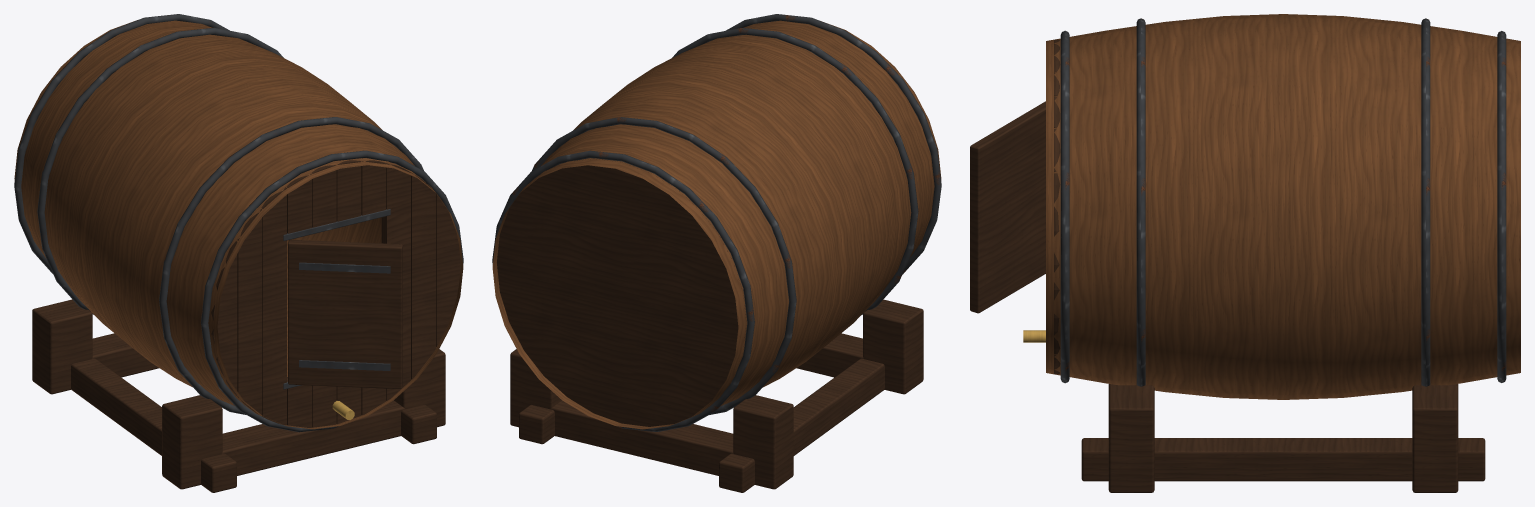
The model's file is cask.glb.
3 renders of one model, left to right at view 1: azimuth 30°, elevation 25°; view 2: azimuth 150°, elevation 25°; view 3: azimuth 270°, elevation 25°, orthographic. The views are drawn at different scales.
Parts seen in each view (by area): view 1: cask; view 2: cask; view 3: cask.
Boxes of the visible parts, x1,y1,x2,y2 form: cask: (14,14,463,492); cask: (492,14,941,492); cask: (970,14,1520,492).
Bounding box in the file's own units: 1.35 × 1.49 × 1.93.
Materials: 5 (5 with a texture image).
